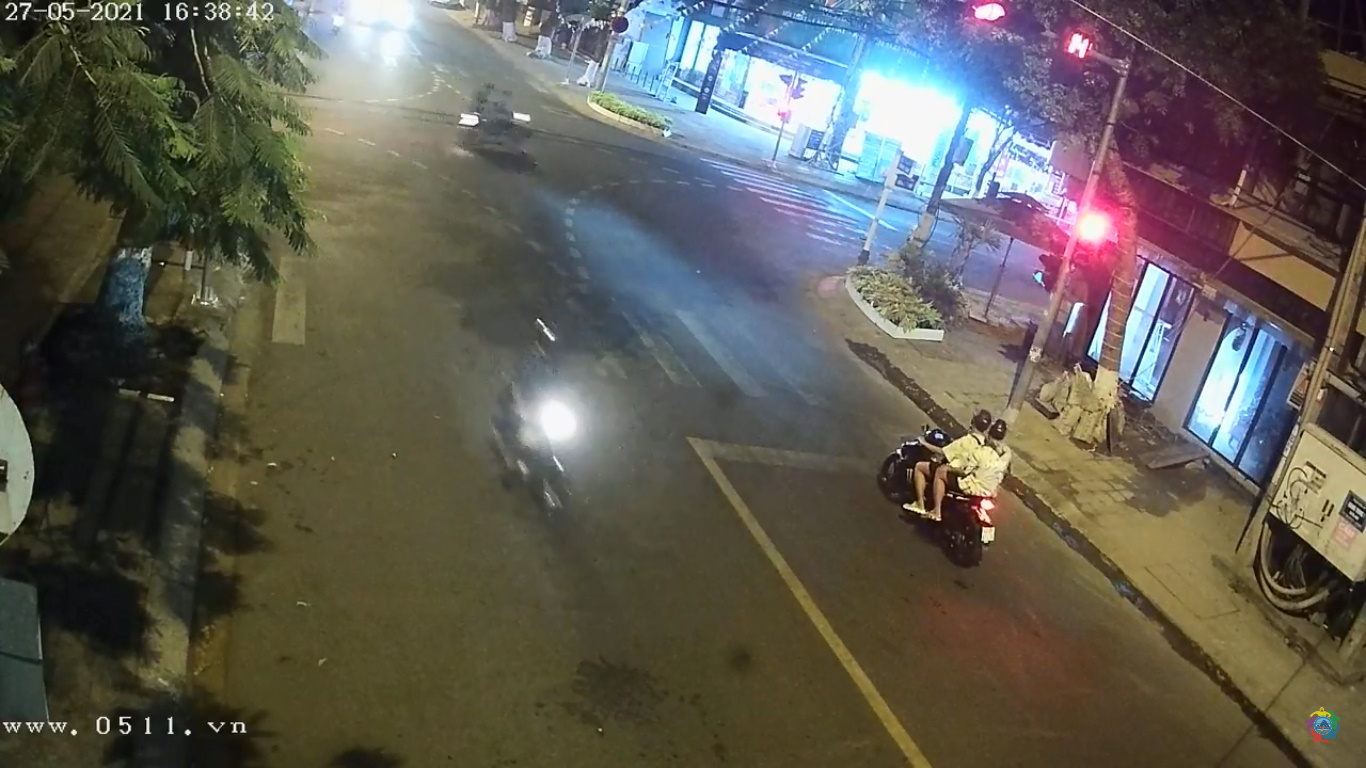motorbike: (477, 309, 602, 537)
